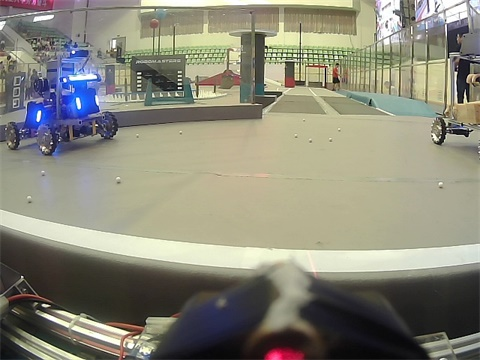chariot: (2, 49, 129, 156)
